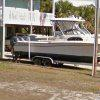Boat: (11, 15, 100, 73)
